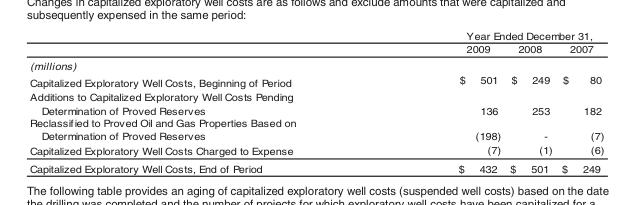table: (28, 29, 603, 173)
table column: (28, 29, 376, 173), (376, 29, 504, 173), (504, 29, 556, 173), (556, 29, 603, 173)
table column header: (28, 29, 603, 57)
table projected row header: (28, 57, 603, 72)
table row: (28, 89, 603, 116), (28, 116, 603, 142), (28, 72, 603, 89), (28, 142, 603, 159), (28, 41, 603, 57), (28, 57, 603, 72), (28, 159, 603, 173), (28, 29, 603, 41)
table spanning cell: (376, 29, 603, 41)
